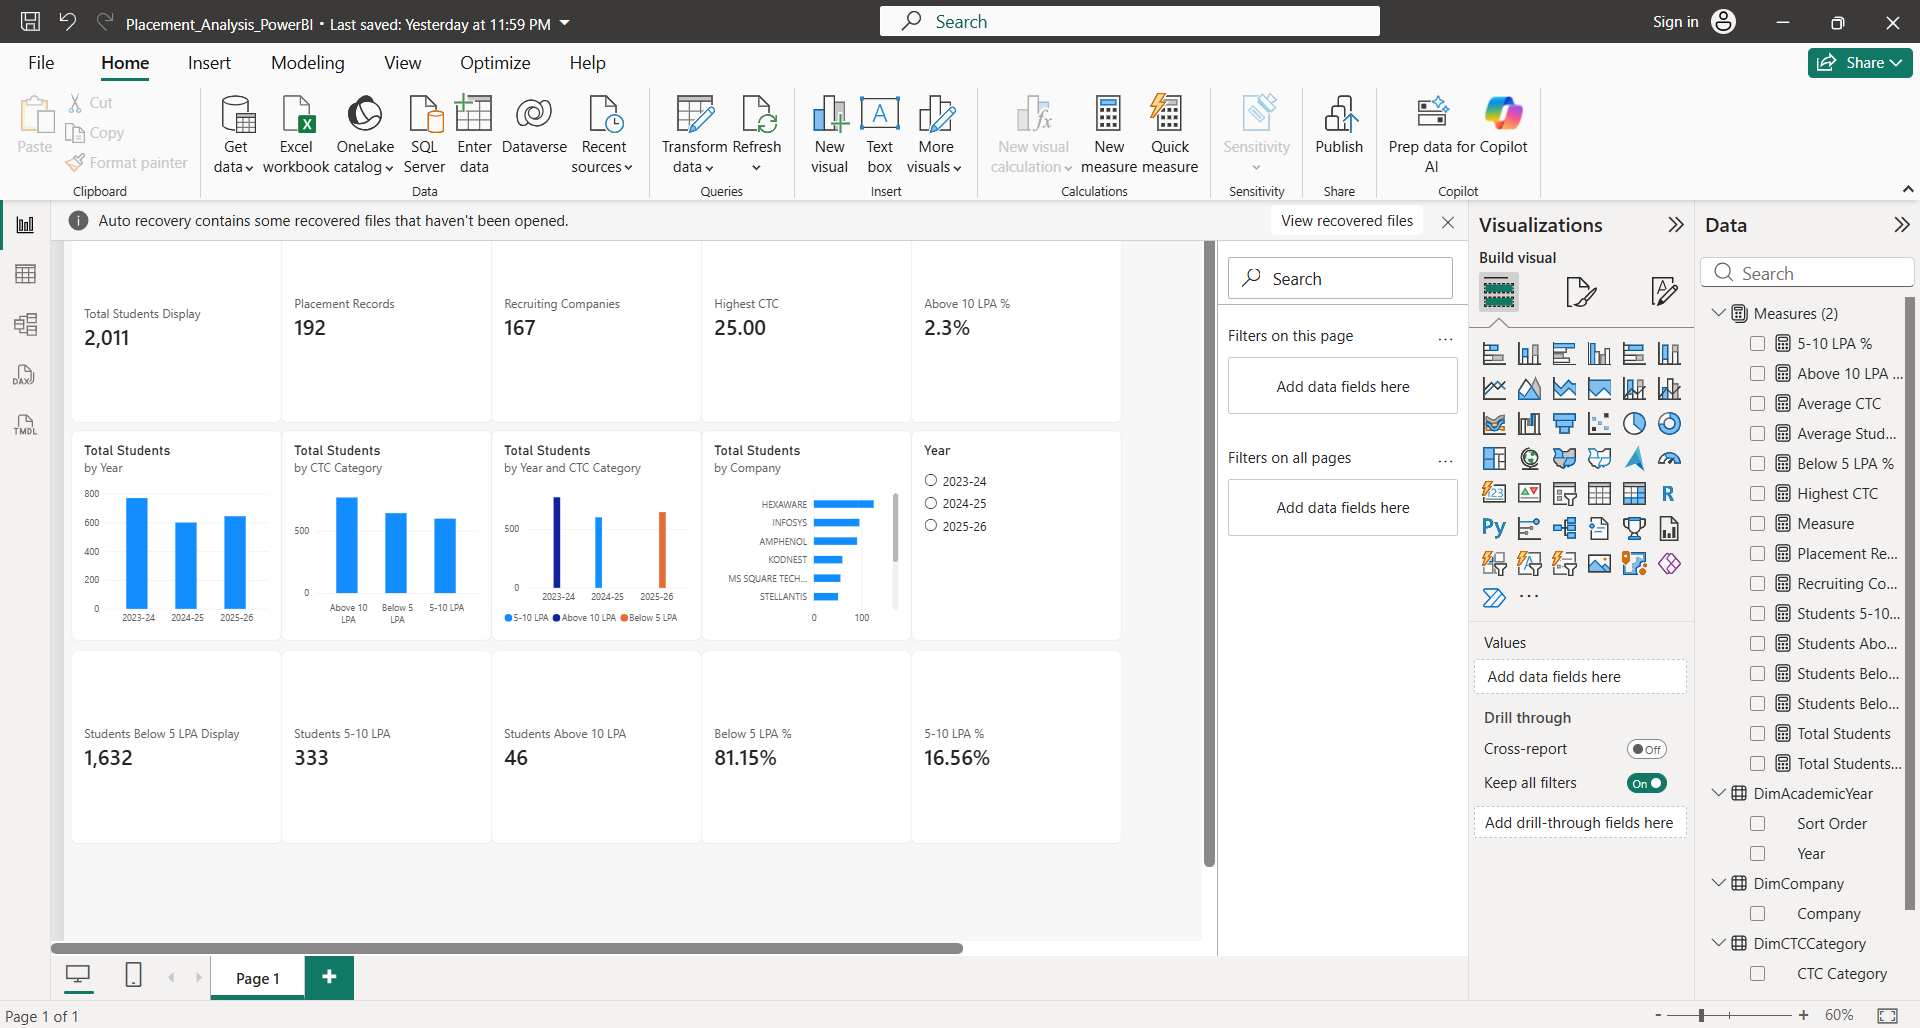

What the dashboard file says about the page in this screenshot:
{"tool":"powerbi","page":{"name":"Page 1","canvas":[1920,1080],"ordinal":0},"visuals":[{"type":"cardVisual","fields":{"Data":["Measures (2).Placement Records"]},"box":[290,96,280,246.7],"z":0},{"type":"cardVisual","fields":{"Data":["Measures (2).Recruiting Companies"]},"box":[570,96,280,246.7],"z":1000},{"type":"cardVisual","fields":{"Data":["Measures (2).Highest CTC"]},"box":[844.6,96.4,280,246.7],"z":2000},{"type":"cardVisual","fields":{"Data":["Measures (2).Above 10 LPA %"]},"box":[1125,96,280,246.7],"z":3000},{"type":"lineClusteredColumnComboChart","title":"Total Students by Academic Year","fields":{"Category":["DimAcademicYear.Year"],"Y":["Measures (2).Total Students"]},"box":[10,342.5,350,280],"z":4000},{"type":"clusteredColumnChart","fields":{"Category":["DimCTCCategory.CTC Category"],"Y":["Measures (2).Total Students"]},"box":[360.7,342,350,280],"z":5000},{"type":"clusteredColumnChart","title":"Students by CTC Category and Academic Year","fields":{"Category":["DimAcademicYear.Year"],"Series":["DimCTCCategory.CTC Category"],"Y":["Measures (2).Total Students"]},"box":[710.7,342,350,280],"z":6000},{"type":"clusteredBarChart","title":"Top 10 Recruiting Companies by Students","fields":{"Category":["DimCompany.Company"],"Y":["Measures (2).Total Students"]},"box":[1060.7,342.9,350,280],"z":7000},{"type":"listSlicer","title":"Academic Year","fields":{"Values":["DimAcademicYear.Year"]},"box":[1410.7,342.9,230.4,280.4],"z":8000},{"type":"cardVisual","fields":{"Data":["Measures (2).Students 5-10 LPA"]},"box":[291.1,623.2,280,225],"z":9000},{"type":"cardVisual","fields":{"Data":["Measures (2).Students Below 5 LPA Display"]},"box":[10,622.5,280,225],"z":10000},{"type":"cardVisual","fields":{"Data":["Measures (2).Total Students Display"]},"box":[10.7,96.4,280,246.7],"z":11000},{"type":"cardVisual","fields":{"Data":["Measures (2).Students Above 10 LPA"]},"box":[571.4,623.2,280,225],"z":12000},{"type":"cardVisual","fields":{"Data":["Measures (2).Below 5 LPA %"]},"box":[1685,96,235,246],"z":13000},{"type":"cardVisual","fields":{"Data":["Measures (2).5-10 LPA %"]},"box":[1405,96,280,246],"z":14000},{"type":"lineChart","title":"Average CTC by Academic Year","fields":{"Category":["DimAcademicYear.Year"],"Y":["Measures (2).Average CTC"]},"box":[1201.8,623.2,350,225],"z":15000},{"type":"clusteredColumnChart","title":"Placement Records by Academic Year","fields":{"Category":["DimAcademicYear.Year"],"Y":["Measures (2).Placement Records"]},"box":[1544.7,623.2,375,225],"z":16000},{"type":"lineClusteredColumnComboChart","fields":{"Category":["DimAcademicYear.Year"],"Y":["Measures (2).Total Students"],"Y2":["Measures (2).Average CTC"]},"box":[10,850,350,230],"z":17000},{"type":"pieChart","title":"Student Distribution by CTC Category","fields":{"Category":["DimCTCCategory.CTC Category"],"Y":["Measures (2).Total Students"]},"box":[360.7,850,350,230],"z":18000},{"type":"donutChart","title":"Placement Records by CTC Category","fields":{"Category":["DimCTCCategory.CTC Category"],"Y":["Measures (2).Placement Records"]},"box":[710.7,850,350,230],"z":19000},{"type":"ribbonChart","title":"CTC Category Trends by Academic Year","fields":{"Category":["DimAcademicYear.Year"],"Series":["DimCTCCategory.CTC Category"],"Y":["Measures (2).Total Students"]},"box":[1060.7,850,350,230],"z":20000},{"type":"textbox","box":[0,0,1690,95],"z":21000},{"type":"cardVisual","fields":{"Data":["Measures (2).Recruiting Companies"]},"box":[851.8,623.2,350,225],"z":21001},{"type":"tableEx","fields":{"Values":["DimCompany.Company","Measures (2).Total Students"]},"box":[1410.7,850,508.9,230.4],"z":21002},{"type":"gauge","title":"Average CTC vs Highest CTC","fields":{"Y":["Measures (2).Average CTC"],"TargetValue":["Measures (2).Highest CTC"],"MaxValue":["Measures (2).Highest CTC"]},"box":[1641.1,342.9,278.6,280.4],"z":21003}]}

Visuals, with their boxes on the page's 1920x1080 design canvas (x1, y1, x2, y2). These are canvas units, not pixel positions in the 1920x1028 screenshot, which may show the page scaled, cropped or inside an application window:
cardVisual - Measures (2).Placement Records: crop(290, 96, 570, 343)
cardVisual - Measures (2).Recruiting Companies: crop(570, 96, 850, 343)
cardVisual - Measures (2).Highest CTC: crop(845, 96, 1125, 343)
cardVisual - Measures (2).Above 10 LPA %: crop(1125, 96, 1405, 343)
"Total Students by Academic Year" lineClusteredColumnComboChart: crop(10, 342, 360, 622)
clusteredColumnChart - DimCTCCategory.CTC Category x Measures (2).Total Students: crop(361, 342, 711, 622)
"Students by CTC Category and Academic Year" clusteredColumnChart: crop(711, 342, 1061, 622)
"Top 10 Recruiting Companies by Students" clusteredBarChart: crop(1061, 343, 1411, 623)
"Academic Year" listSlicer: crop(1411, 343, 1641, 623)
cardVisual - Measures (2).Students 5-10 LPA: crop(291, 623, 571, 848)
cardVisual - Measures (2).Students Below 5 LPA Display: crop(10, 622, 290, 848)
cardVisual - Measures (2).Total Students Display: crop(11, 96, 291, 343)
cardVisual - Measures (2).Students Above 10 LPA: crop(571, 623, 851, 848)
cardVisual - Measures (2).Below 5 LPA %: crop(1685, 96, 1920, 342)
cardVisual - Measures (2).5-10 LPA %: crop(1405, 96, 1685, 342)
"Average CTC by Academic Year" lineChart: crop(1202, 623, 1552, 848)
"Placement Records by Academic Year" clusteredColumnChart: crop(1545, 623, 1920, 848)
lineClusteredColumnComboChart - DimAcademicYear.Year x Measures (2).Total Students: crop(10, 850, 360, 1080)
"Student Distribution by CTC Category" pieChart: crop(361, 850, 711, 1080)
"Placement Records by CTC Category" donutChart: crop(711, 850, 1061, 1080)
"CTC Category Trends by Academic Year" ribbonChart: crop(1061, 850, 1411, 1080)
textbox: crop(0, 0, 1690, 95)
cardVisual - Measures (2).Recruiting Companies: crop(852, 623, 1202, 848)
tableEx - DimCompany.Company x Measures (2).Total Students: crop(1411, 850, 1920, 1080)
"Average CTC vs Highest CTC" gauge: crop(1641, 343, 1920, 623)
